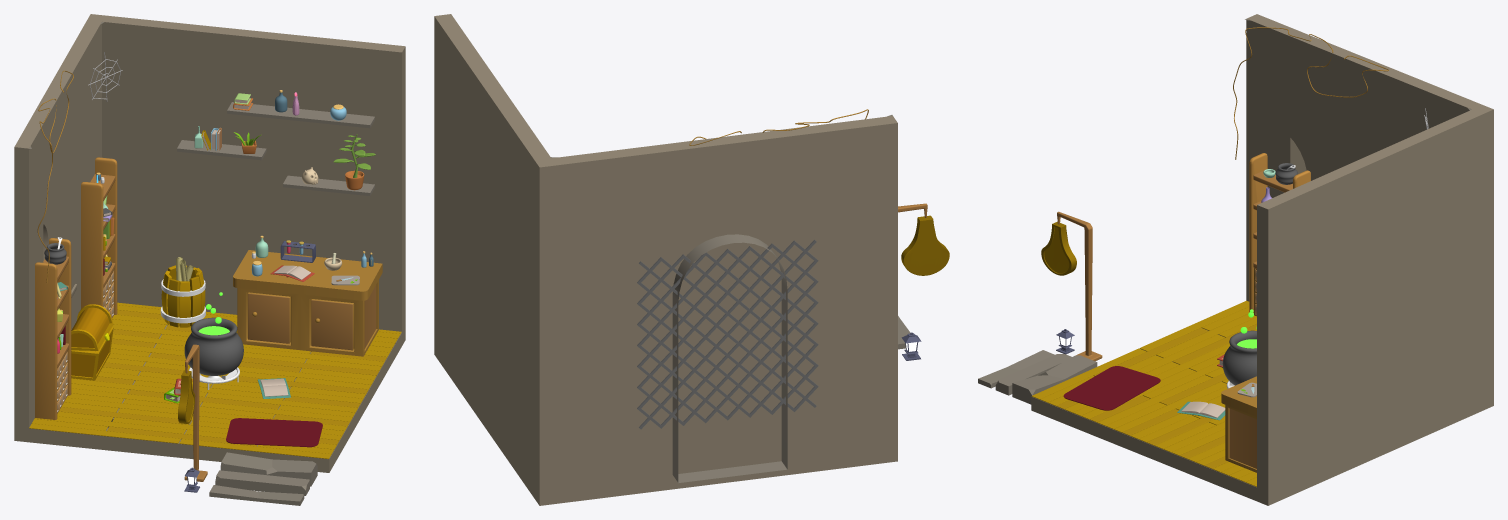
The model's file is potion-shop-final.glb.
The picture shows the model from 3 angles, left to right: view 1: azimuth 30°, elevation 25°; view 2: azimuth 150°, elevation 25°; view 3: azimuth 270°, elevation 25°; orthographic projection. The views are drawn at different scales.
Parts seen in each view (by area): view 1: Cube.002, Cube.025, Cube.001, Cube.012, Cube.011, Plane.002, Circle.005, Cylinder.002, Cube.083, Cube.084, Cube.020, Cube.022 (+14 smaller); view 2: Cube.002, Plane.012, Cube.008, Circle.039; view 3: Cube.002, Cube.025, Cube.001, Plane.002, Cube.083, Cube.012, Circle.005, Cube.086, Circle.039, Cube.084, Cube.085, Vert.002 (+1 smaller).
Part boxes in pixels (x1,y1,x2,y2): Cube.002: (14, 14, 405, 472); Cube.025: (29, 302, 401, 459); Cube.001: (233, 250, 382, 356); Cube.012: (35, 262, 57, 419); Cube.011: (81, 182, 103, 308); Plane.002: (226, 418, 322, 447); Circle.005: (184, 317, 243, 375); Cylinder.002: (161, 265, 205, 327); Cube.083: (220, 452, 317, 486); Cube.084: (215, 470, 309, 495); Cube.020: (227, 102, 374, 128); Cube.022: (71, 304, 113, 350); Cube.002: (434, 14, 897, 505); Plane.012: (637, 240, 818, 429); Cube.008: (672, 234, 787, 482); Circle.039: (901, 215, 949, 275); Cube.002: (1031, 14, 1493, 505); Cube.025: (1031, 300, 1256, 486); Cube.001: (1221, 376, 1256, 472); Plane.002: (1063, 366, 1160, 410); Cube.083: (1012, 355, 1097, 404); Cube.012: (1249, 153, 1267, 312); Circle.005: (1222, 330, 1256, 385); Cube.086: (1057, 211, 1102, 361); Circle.039: (1041, 221, 1076, 275); Cube.084: (995, 354, 1071, 395); Cube.085: (978, 350, 1054, 388); Vert.002: (1233, 27, 1388, 159).
Bounding box in the file's own units: 18.78 × 13.52 × 20.94.
